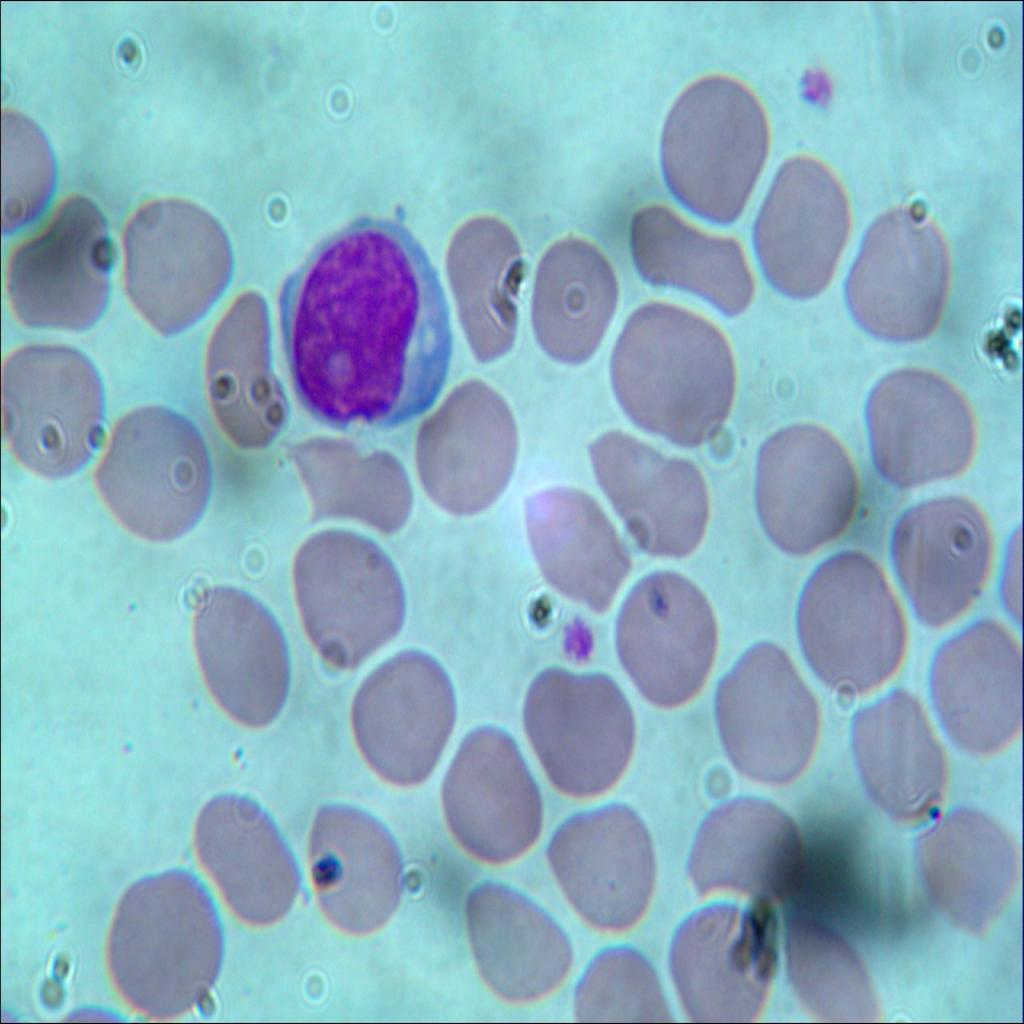Eritrosit: (99, 861, 234, 1023), (615, 301, 746, 455), (95, 401, 216, 552), (511, 658, 635, 802), (115, 194, 238, 339), (651, 72, 773, 218), (706, 638, 820, 790), (189, 784, 306, 931), (346, 632, 456, 787), (3, 189, 118, 335), (609, 568, 718, 721), (589, 428, 713, 562), (438, 708, 543, 864), (461, 870, 575, 1012), (753, 421, 868, 561), (618, 201, 752, 321), (840, 206, 958, 342), (289, 532, 410, 662), (1, 334, 103, 488), (796, 556, 909, 694), (284, 419, 410, 542), (408, 378, 518, 518), (863, 362, 976, 497), (198, 579, 299, 729), (890, 490, 996, 632), (514, 484, 632, 611), (302, 792, 406, 936), (751, 158, 851, 304), (544, 802, 655, 929), (206, 292, 288, 454), (929, 619, 1023, 751), (851, 689, 946, 819), (686, 788, 799, 897), (666, 909, 773, 1023), (924, 808, 1014, 934), (530, 231, 612, 366), (779, 915, 878, 1023)
Limfoblast: (270, 214, 452, 428)
Platelet: (558, 616, 596, 662), (796, 62, 831, 109), (919, 792, 946, 829)
